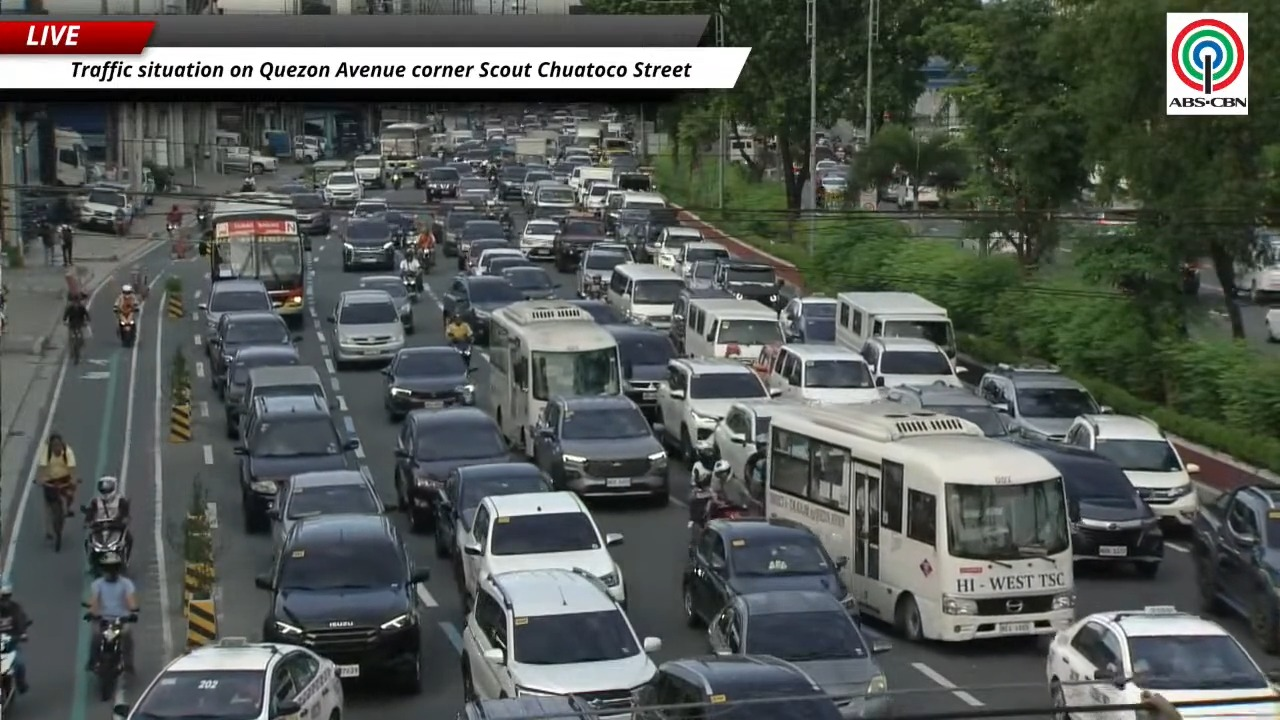bus: (765, 403, 1074, 641), (488, 300, 622, 455), (208, 193, 304, 327), (379, 122, 432, 173), (53, 128, 89, 186)
car: (255, 514, 428, 693), (461, 568, 661, 716), (1046, 606, 1279, 717), (709, 590, 891, 719), (1020, 440, 1163, 577), (459, 491, 625, 605), (114, 637, 343, 719), (682, 518, 856, 625), (234, 397, 358, 533), (1063, 414, 1199, 525), (534, 395, 668, 504), (394, 406, 509, 531), (634, 655, 840, 719), (657, 358, 774, 458), (434, 462, 552, 558), (977, 363, 1110, 440), (711, 399, 800, 499), (269, 470, 386, 546), (755, 343, 882, 403), (224, 344, 300, 438), (383, 346, 475, 421), (210, 312, 292, 396), (605, 324, 676, 421), (885, 384, 1008, 437), (329, 290, 404, 368), (199, 279, 272, 358), (441, 274, 522, 344), (861, 336, 964, 387), (668, 287, 730, 353), (243, 366, 329, 408), (457, 694, 596, 719), (713, 257, 781, 308), (359, 275, 414, 333), (553, 216, 605, 272), (342, 217, 395, 271), (779, 296, 837, 342), (577, 246, 629, 297), (78, 185, 133, 230), (441, 204, 488, 256), (290, 191, 331, 250), (651, 225, 702, 272), (469, 239, 527, 275), (673, 240, 729, 276), (381, 209, 432, 247), (501, 267, 559, 299), (458, 217, 507, 254), (561, 299, 627, 324), (518, 219, 558, 259), (323, 171, 362, 206), (521, 167, 554, 207), (422, 166, 460, 200), (581, 182, 618, 215), (352, 154, 386, 188), (484, 255, 537, 276), (497, 164, 527, 200), (413, 156, 443, 189), (683, 260, 717, 289), (457, 176, 492, 204), (588, 240, 634, 261), (350, 198, 388, 218), (1264, 307, 1279, 342), (446, 159, 475, 177)
motorcycle: (85, 613, 136, 700), (85, 520, 129, 576), (0, 627, 25, 715), (117, 312, 136, 347), (401, 270, 421, 300), (452, 341, 472, 366), (584, 276, 605, 299), (499, 206, 513, 239), (420, 247, 434, 271), (166, 221, 178, 240), (240, 176, 255, 191), (196, 210, 207, 229), (392, 173, 401, 189)
truck: (1191, 484, 1279, 653), (219, 146, 278, 174), (514, 137, 552, 161), (574, 121, 602, 147)
